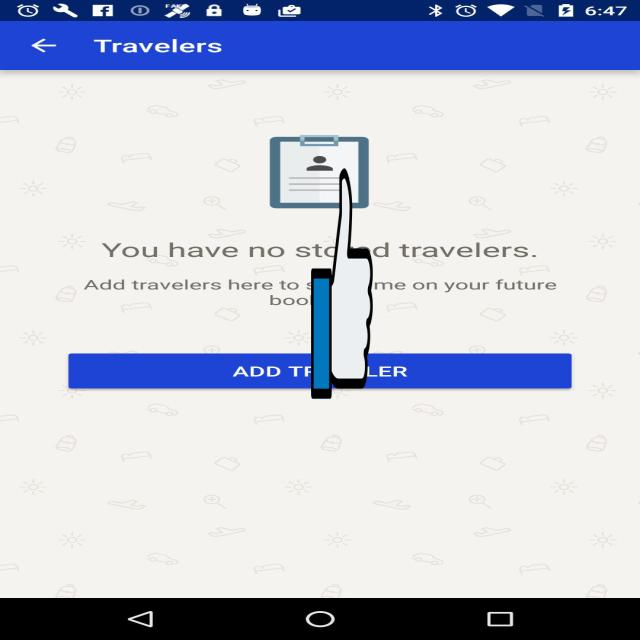privacy zuckering: (311, 163, 373, 404)
